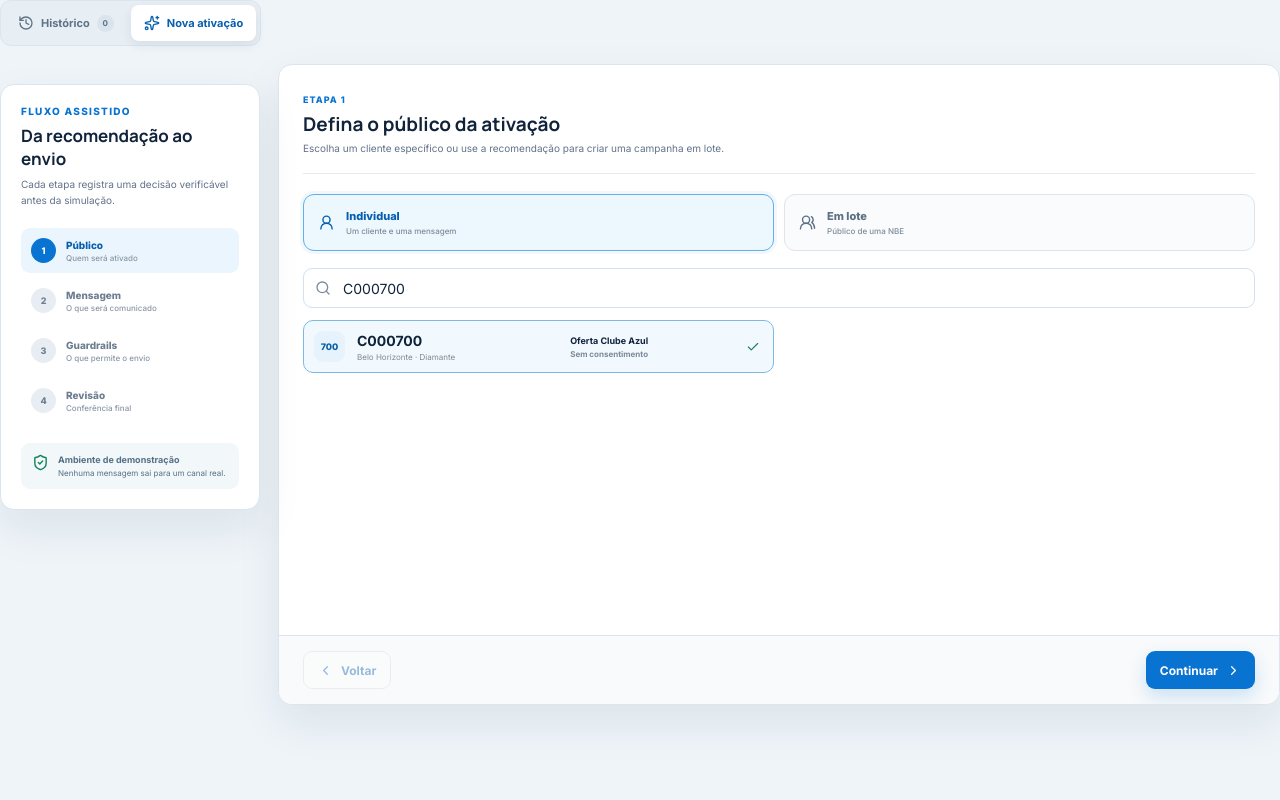
Test: central de ativação › bloqueia o avanço quando o cliente não possui consentimento
Click the button "Continuar".
click(1200, 670)  # box [1146,651,1255,689]
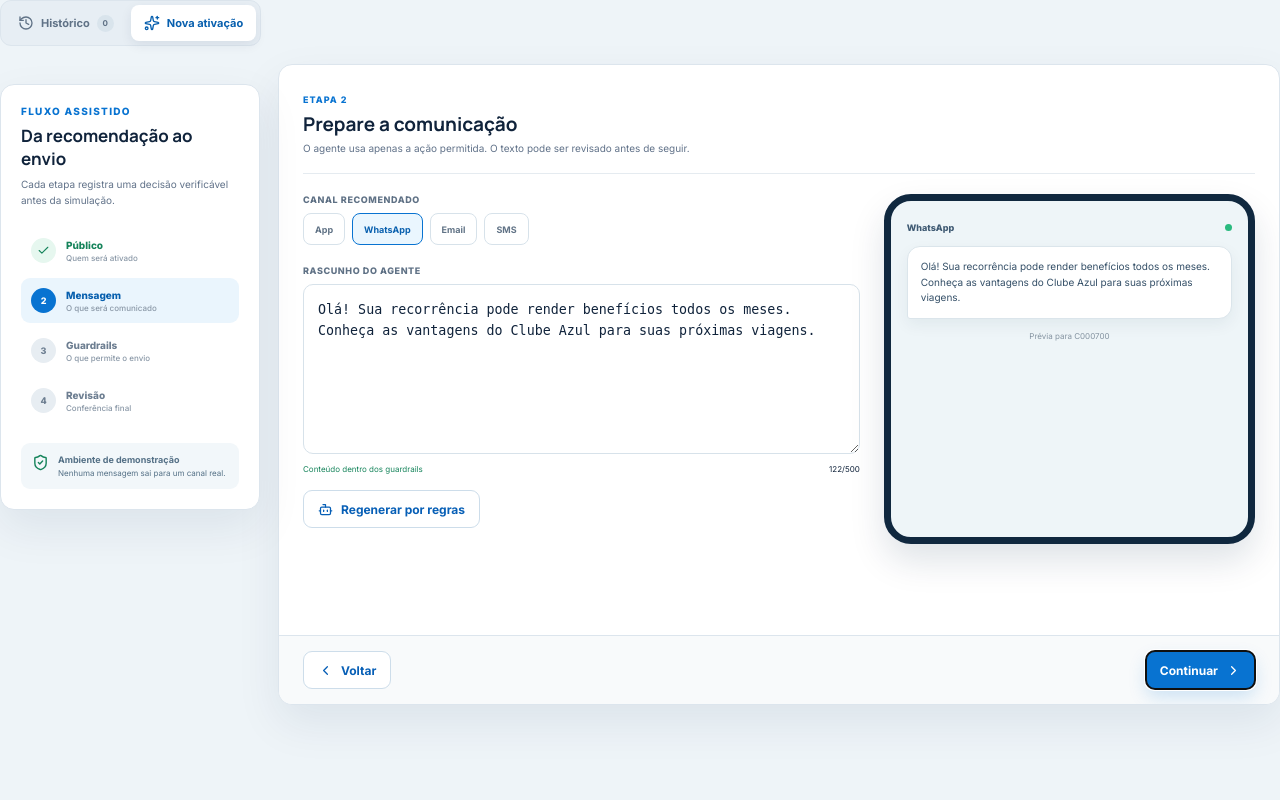
Expected: the heading "Prepare a comunicação" is shown, [303,111,518,137]
Expected: the text box labelled "Rascunho do agente" is not empty, [303,284,860,454]
Click the button "Continuar".
click(1200, 670)  # box [1146,651,1255,689]
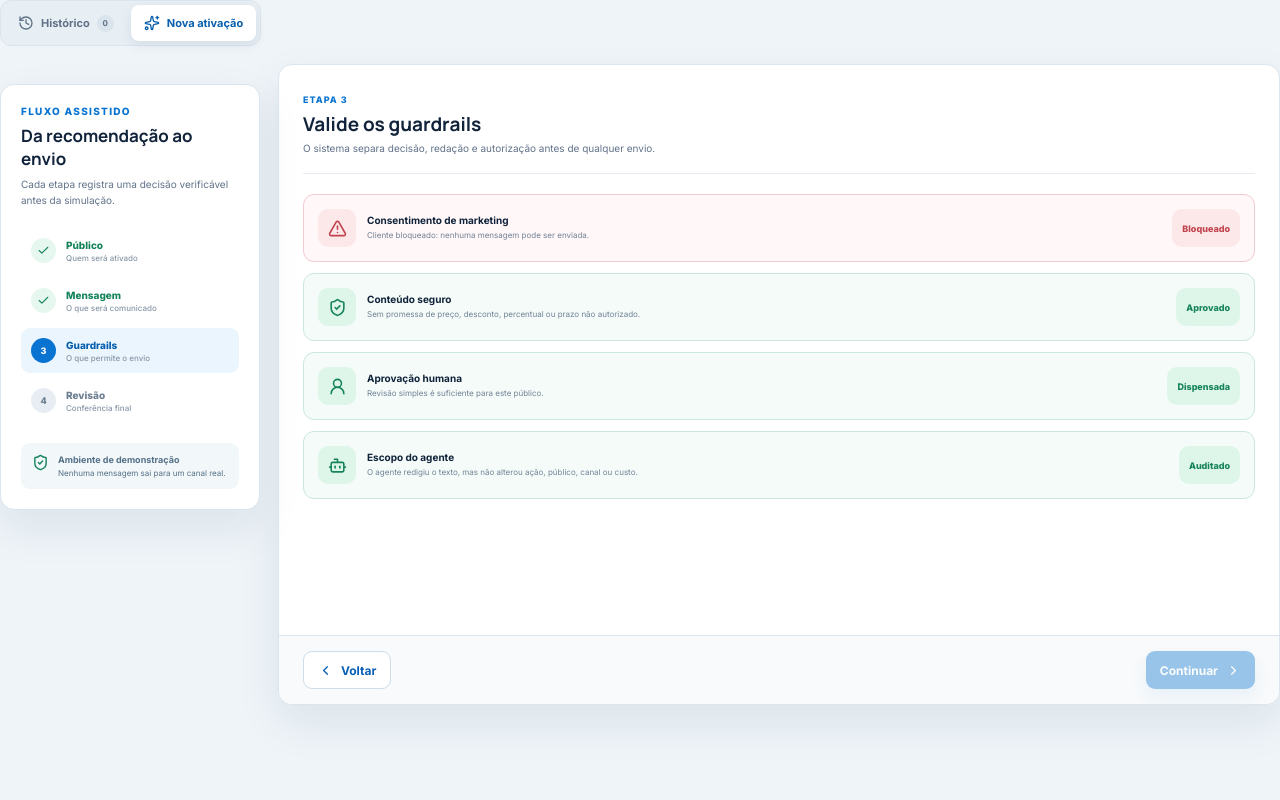
Expected: the heading "Valide os guardrails" is shown, [303,111,481,137]
Expected: the text "Cliente bloqueado: nenhuma mensagem pode ser enviada." is shown, [367,230,589,240]
Expected: the button "Continuar" is disabled, [1146,651,1255,689]
